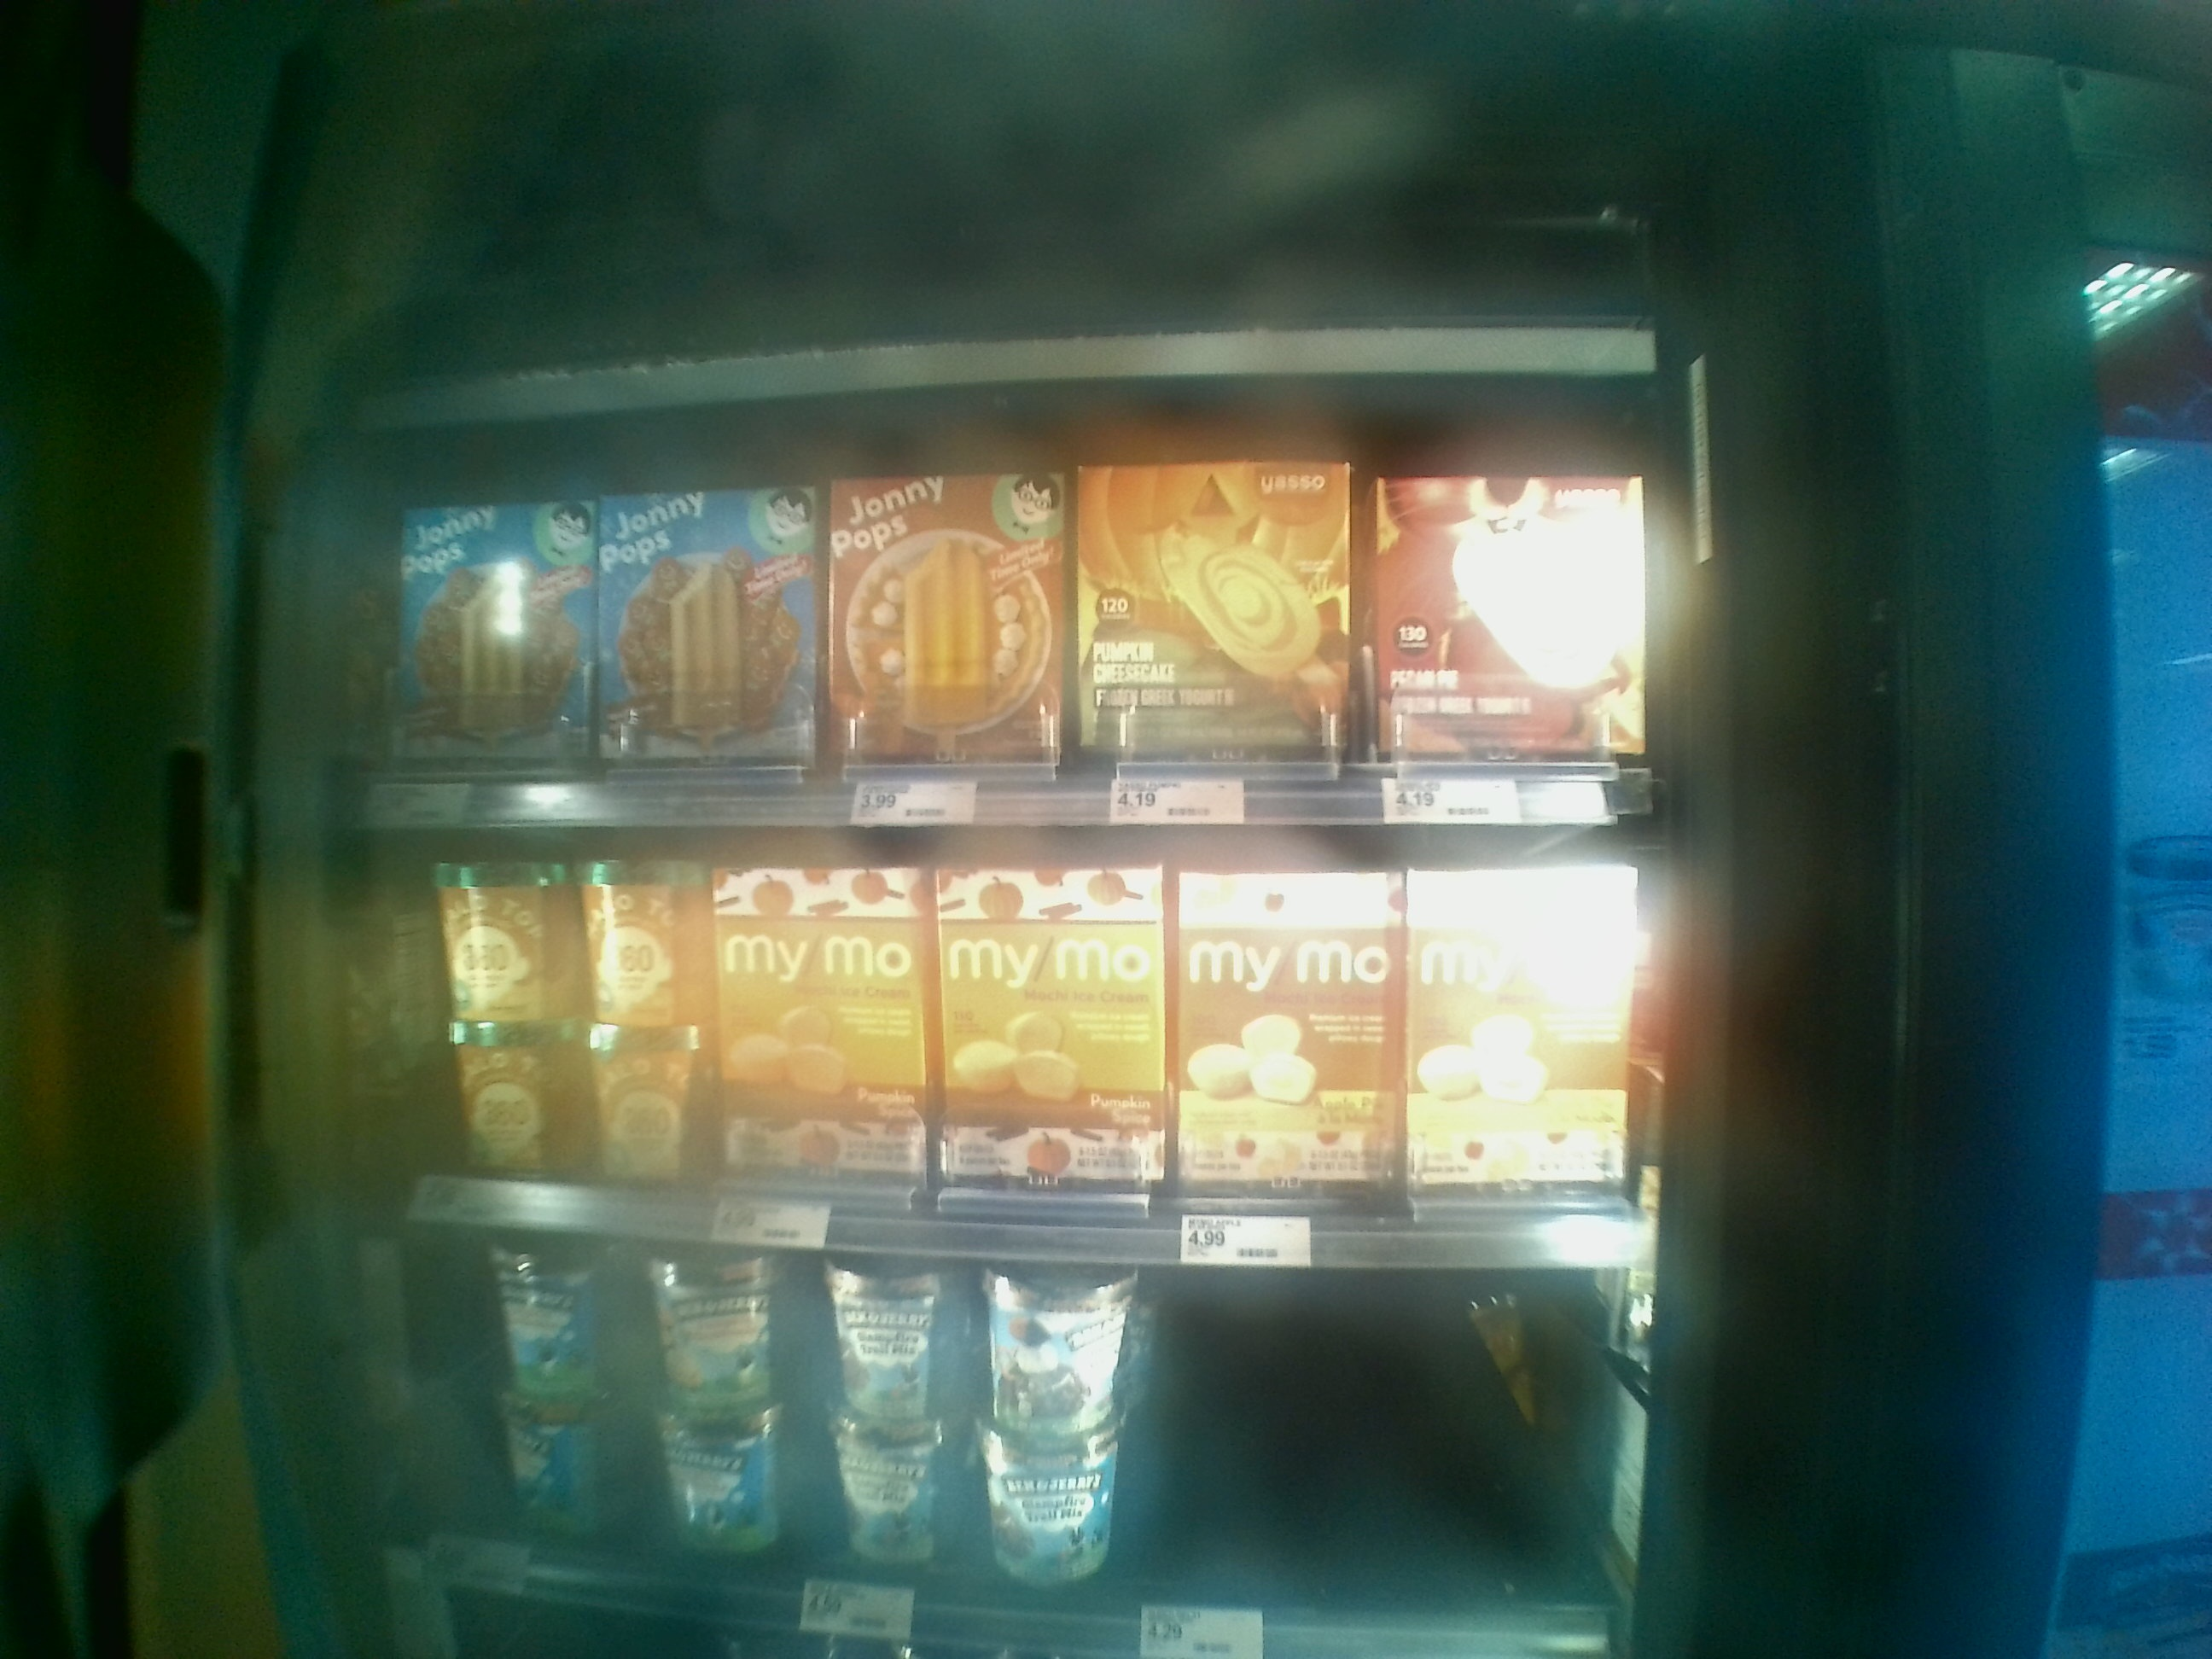shelf: (319, 823, 1641, 1270), (334, 390, 1669, 828)
